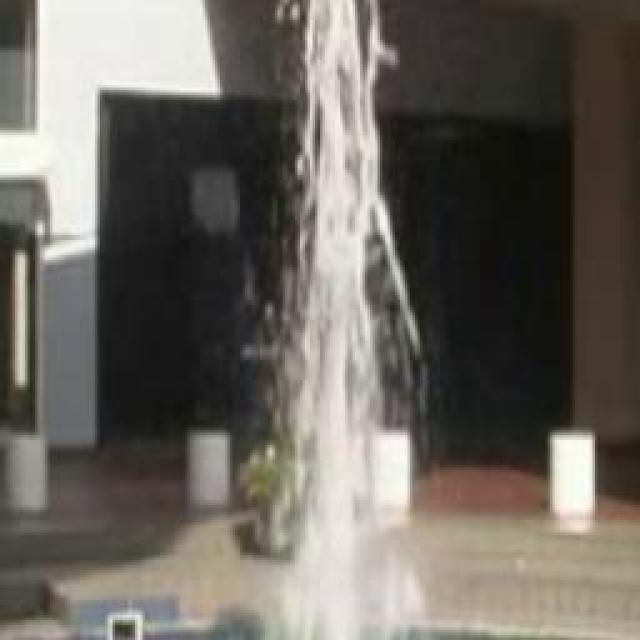other: (274, 358, 414, 620)
